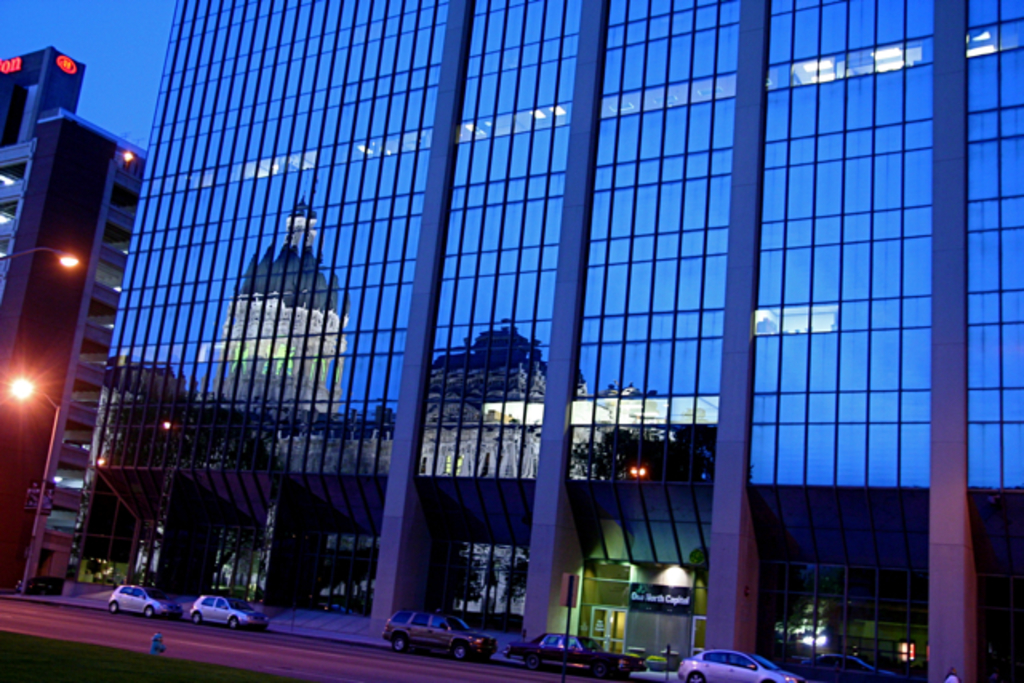Car: (504, 631, 649, 678), (379, 609, 500, 663), (678, 649, 806, 681), (187, 593, 268, 633), (105, 585, 177, 619), (16, 577, 64, 590)
